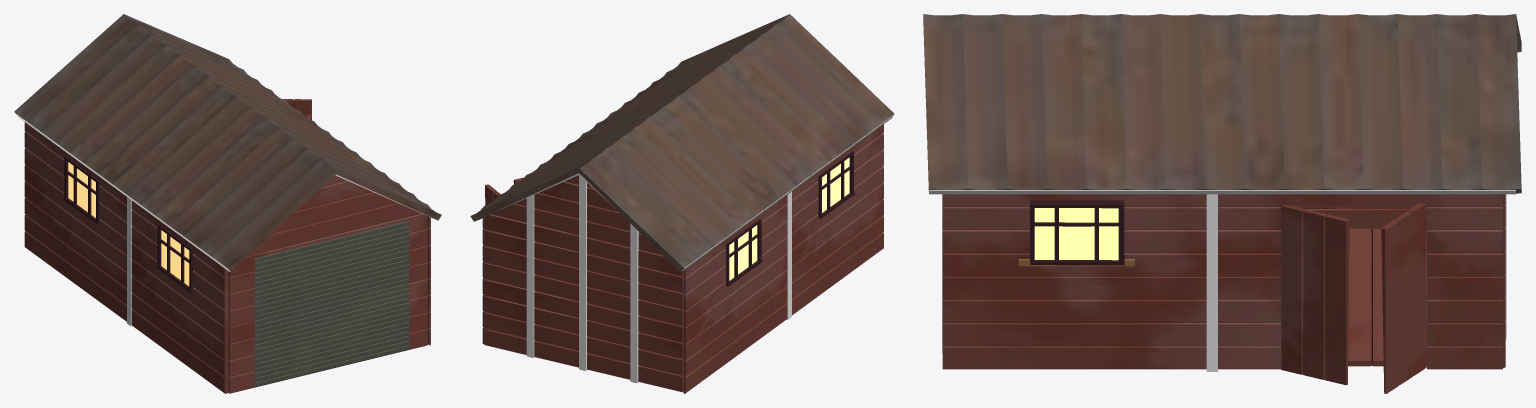
Rendered from garage.glb.
The picture shows the model from 3 angles, left to right: view 1: azimuth 30°, elevation 25°; view 2: azimuth 150°, elevation 25°; view 3: azimuth 270°, elevation 25°; orthographic projection. The views are drawn at different scales.
Parts seen in each view (by area): view 1: Plane.088; view 2: Plane.088; view 3: Plane.088.
Part boxes in pixels (x1,y1,x2,y2): Plane.088: [14, 14, 441, 393]; Plane.088: [470, 14, 894, 393]; Plane.088: [923, 14, 1521, 393].
Size of the model in its own units: 3.95 by 3.12 by 5.89.
Materials: 7 (1 with a texture image).
